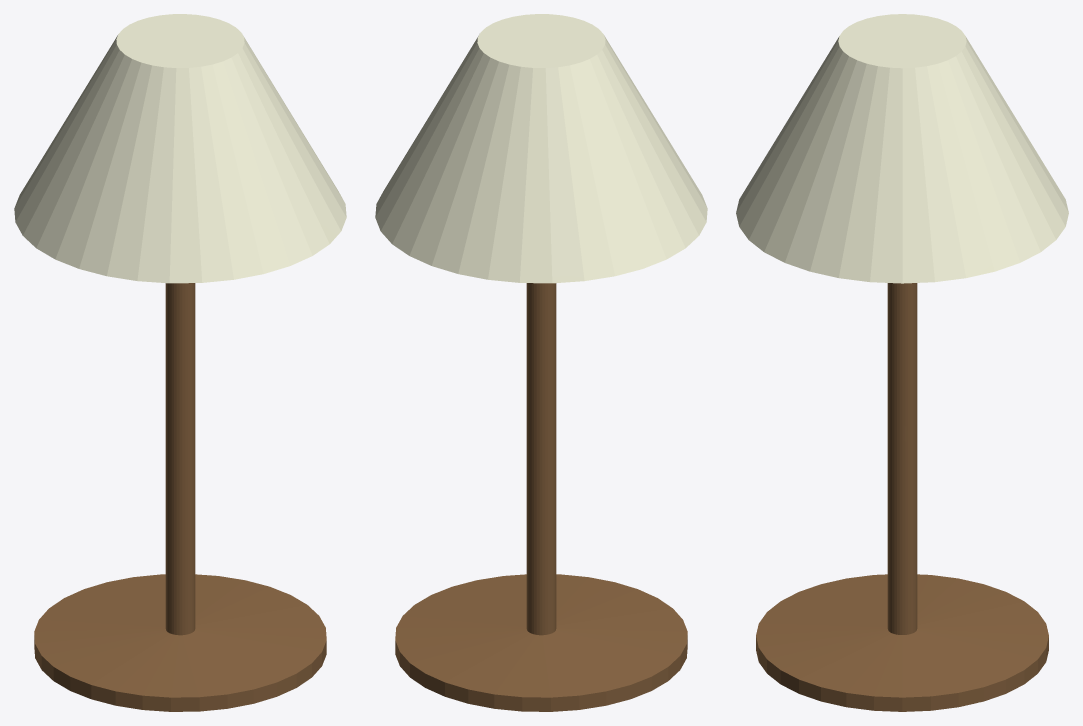
Rendered from Lampara_prefab.fbx.
3 views of the same model, side by side, from view 1: azimuth 30°, elevation 25°; view 2: azimuth 150°, elevation 25°; view 3: azimuth 270°, elevation 25° (orthographic).
Parts seen in each view (by area): view 1: Cylinder; view 2: Cylinder; view 3: Cylinder.
Part boxes in pixels (x1,y1,x2,y2): Cylinder: (14,14,346,711); Cylinder: (375,14,707,711); Cylinder: (736,14,1068,711).
Bounding box in the file's own units: 180 × 362 × 180.
Materials: 1 (1 with a texture image).
